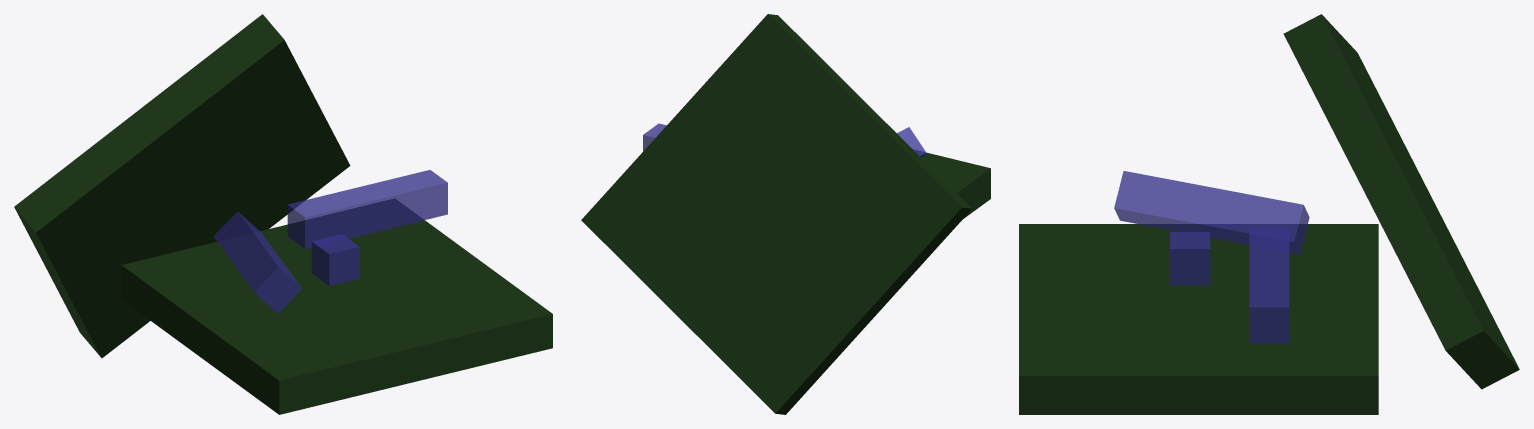
The model's file is xparent_test.glb.
The picture shows the model from 3 angles, left to right: view 1: azimuth 30°, elevation 25°; view 2: azimuth 150°, elevation 25°; view 3: azimuth 270°, elevation 25°; orthographic projection. The views are drawn at different scales.
Parts seen in each view (by area): view 1: Cube.001, Cube; view 2: Cube.001, Cube; view 3: Cube.001, Cube.
Part boxes in pixels (x1=…): Cube.001: x1=14, y1=14, x2=552, y2=414; Cube: x1=213, y1=170, x2=447, y2=313; Cube.001: x1=581, y1=14, x2=990, y2=414; Cube: x1=643, y1=123, x2=926, y2=157; Cube.001: x1=1019, y1=14, x2=1519, y2=414; Cube: x1=1114, y1=171, x2=1309, y2=343.
Bounding box in the file's own units: 11.41 × 10.46 × 11.15.
